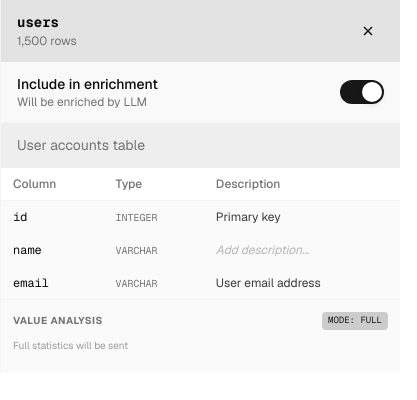
Test: TableDetailPanel › Column description editing › cancels edit on Escape key
Click the text "Primary key" at (248, 217), box [212,207,285,227]
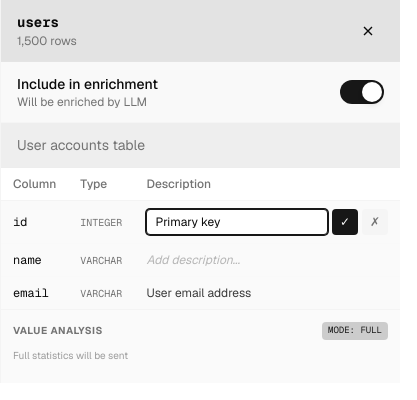
Expected: the field is shown, [146,209,328,235]
Press Escape
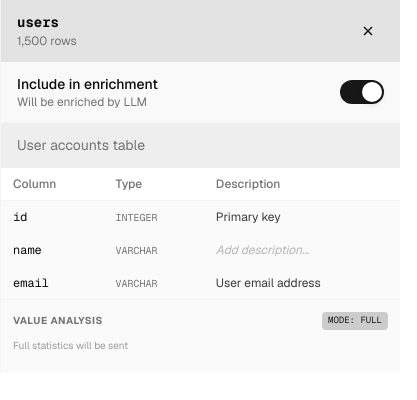
Expected: the field is gone
